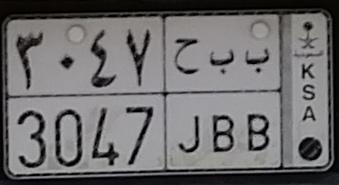0: (54, 54, 83, 168)
3: (15, 31, 47, 169)
4: (90, 28, 120, 167)
7: (126, 28, 155, 165)
B: (209, 49, 237, 152), (245, 47, 271, 153)
J: (173, 38, 201, 153)
